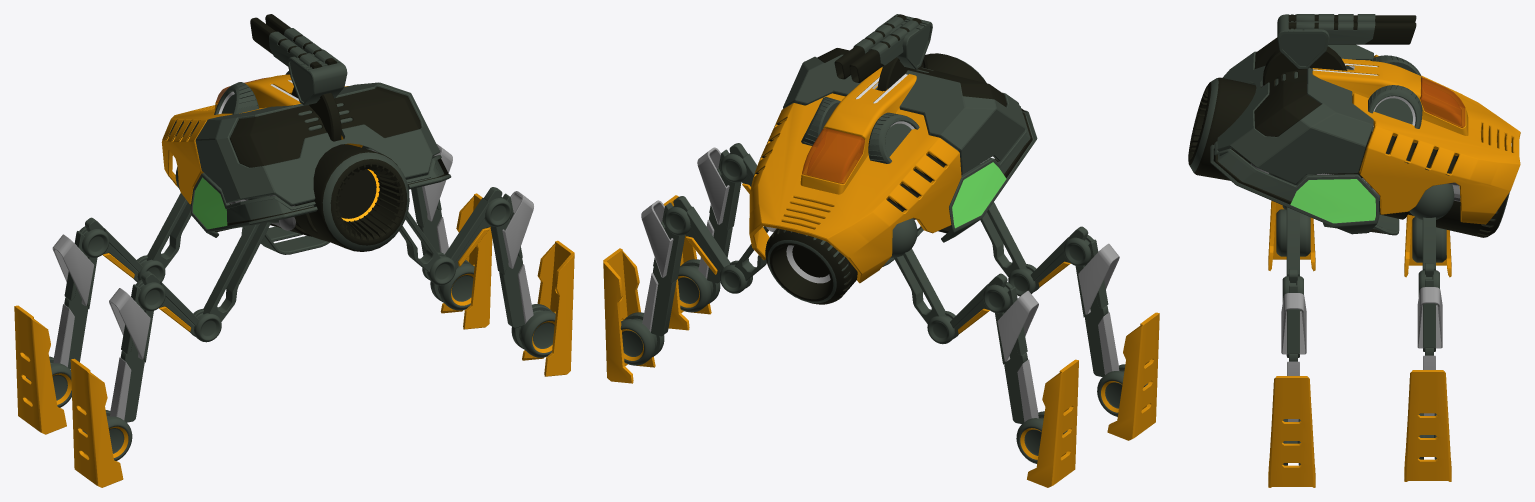
File: BotTest.fbx
3 views of the same model, side by side, from view 1: azimuth 30°, elevation 25°; view 2: azimuth 150°, elevation 25°; view 3: azimuth 270°, elevation 25° (orthographic).
Visible parts, largest first — view 1: Cube.006, Plane.034, Plane.036, Plane.032, Cube.008, Plane.035, Plane.030, Plane.031, Plane.033, Sphere.005, Cylinder.072, Plane.029 (+5 smaller); view 2: Cube.006, Plane.030, Plane.032, Plane.036, Cube.008, Plane.031, Plane.035, Plane.029, Sphere.003, Plane.033, Plane.034, Sphere.005 (+6 smaller); view 3: Cube.006, Cube.008, Plane.030, Plane.034, Plane.033, Plane.029, Sphere.002, Plane.036, Plane.032, Cylinder.070, Sphere.004, Cylinder.069 (+1 smaller).
Boxes of the visible parts, x1,y1,x2,y2 form: Cube.006: (161, 71, 451, 254); Plane.034: (511, 240, 574, 376); Plane.036: (70, 358, 132, 487); Plane.032: (14, 305, 71, 434); Cube.008: (250, 14, 347, 105); Plane.035: (109, 284, 153, 422); Plane.030: (430, 193, 492, 329); Plane.031: (52, 231, 97, 369); Plane.033: (490, 191, 533, 328); Sphere.005: (191, 195, 278, 342); Cylinder.072: (445, 187, 511, 269); Plane.029: (411, 144, 452, 255); Cube.006: (749, 48, 1037, 304); Plane.030: (603, 248, 664, 383); Plane.032: (1016, 359, 1078, 487); Plane.036: (1097, 312, 1159, 440); Cube.008: (834, 14, 932, 82); Plane.031: (995, 286, 1038, 423); Plane.035: (1075, 239, 1119, 376); Plane.029: (641, 200, 685, 336); Sphere.003: (890, 218, 957, 344); Plane.033: (697, 147, 741, 283); Plane.034: (663, 195, 720, 330); Sphere.005: (941, 138, 1038, 296); Cube.006: (1188, 37, 1520, 237); Cube.008: (1277, 14, 1416, 68); Plane.030: (1404, 370, 1451, 481); Plane.034: (1268, 376, 1315, 487); Plane.033: (1281, 285, 1306, 421); Plane.029: (1417, 279, 1442, 415); Sphere.002: (1409, 183, 1454, 305); Plane.036: (1268, 200, 1315, 271); Plane.032: (1404, 214, 1451, 277); Cylinder.070: (1263, 46, 1346, 85); Sphere.004: (1269, 173, 1316, 311); Cylinder.069: (1418, 263, 1439, 296).
Bounding box in the file's own units: 699 × 496 × 418.
